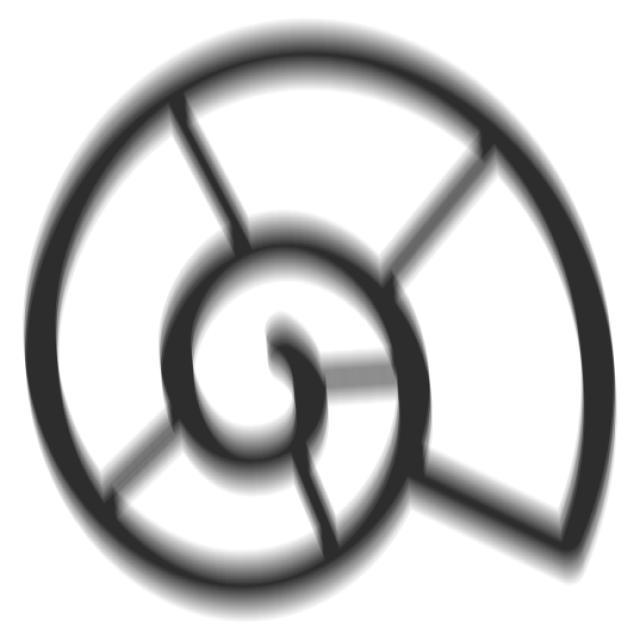fossil: (11, 6, 627, 633)
